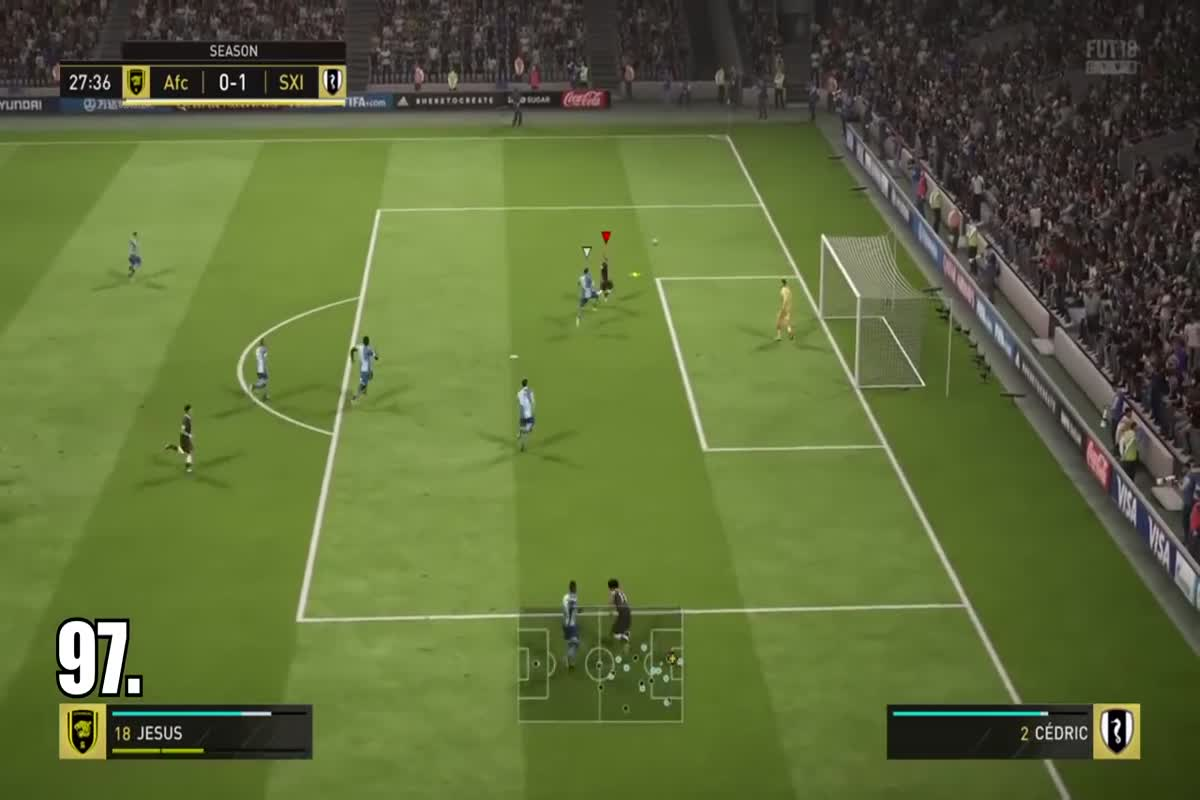ball: (642, 231, 667, 253)
